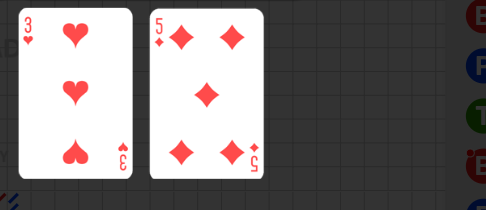3H: (116, 141, 129, 172)
5D: (248, 141, 260, 174)
